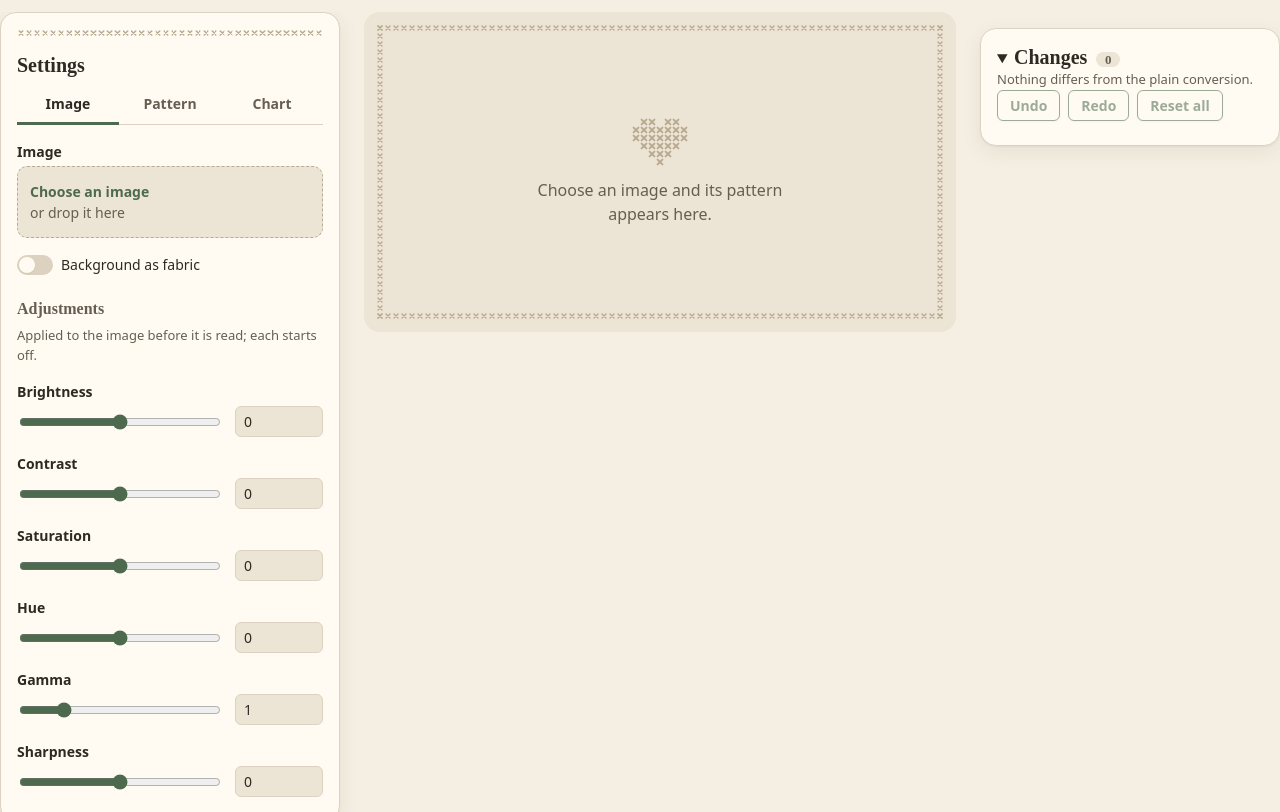
it: UploadForm limits › moves the slider with the number field
This screenshot has width=1280, height=812.
Expected: the file field labelled "image" is shown, [17,166,323,238]
Click the tab "Pattern": (170, 105) [119,85,221,125]
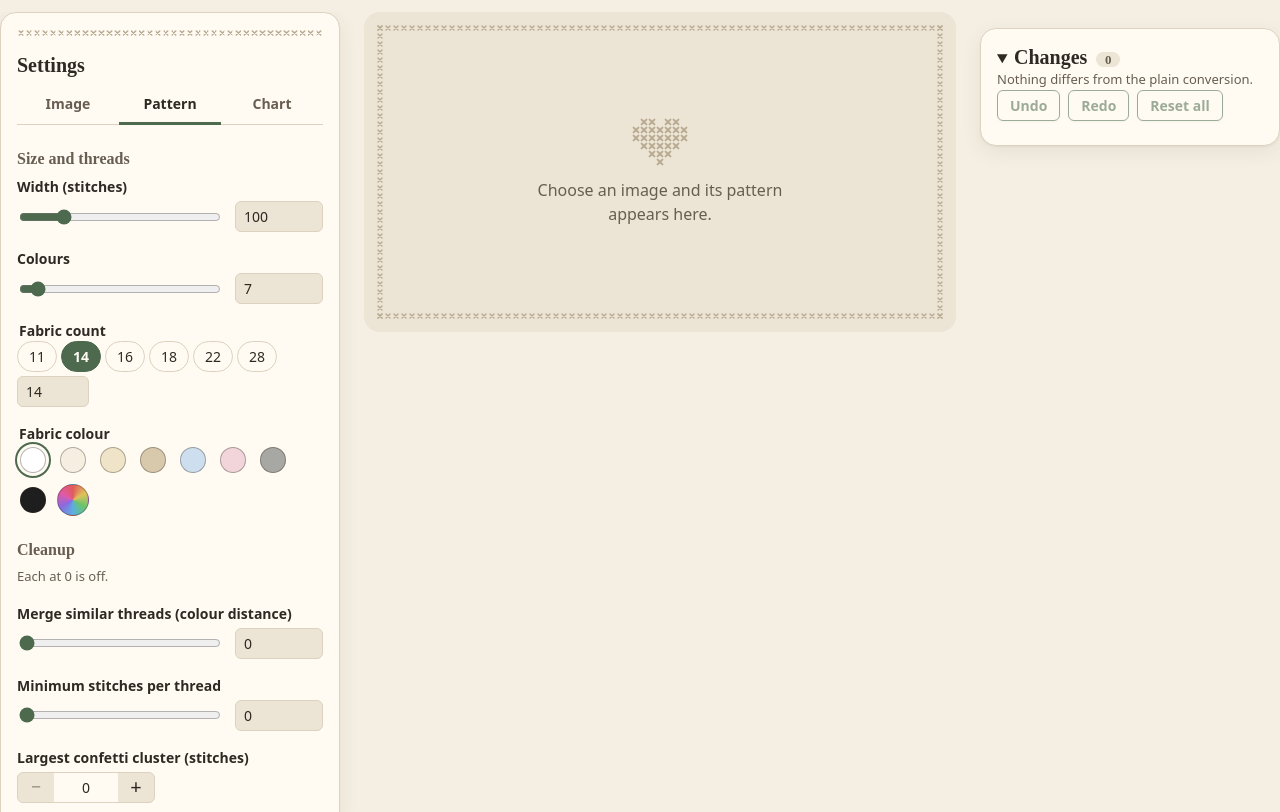
Replace the text in the number field labelled "Width (stitches)" with "250": (279, 217) [235,201,323,232]
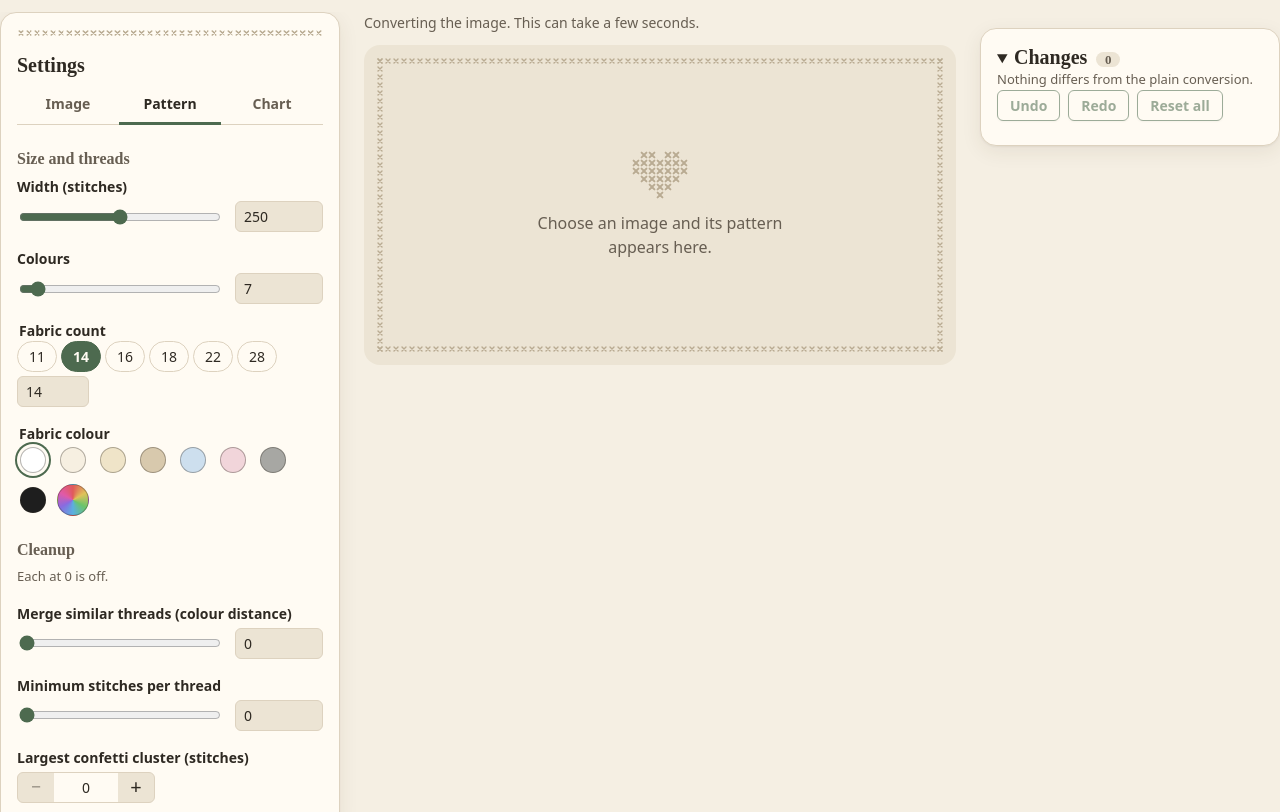
Expected: the slider labelled "Width (stitches)" holds "250", [19,209,221,225]
